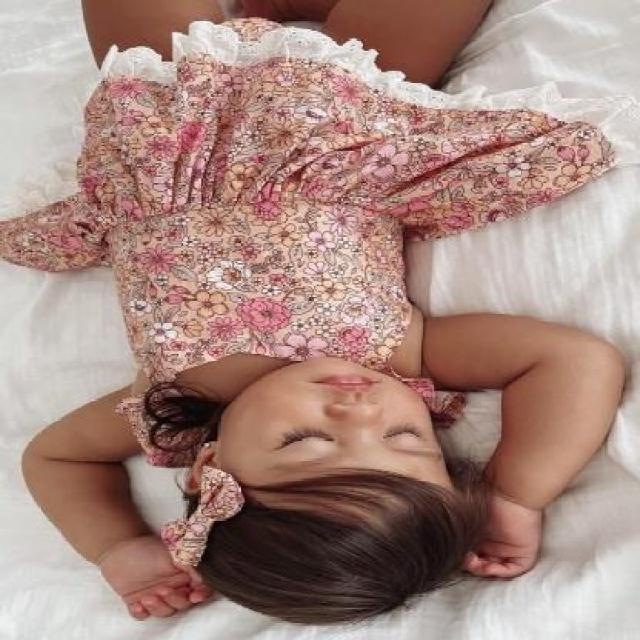baby: (19, 1, 624, 626)
